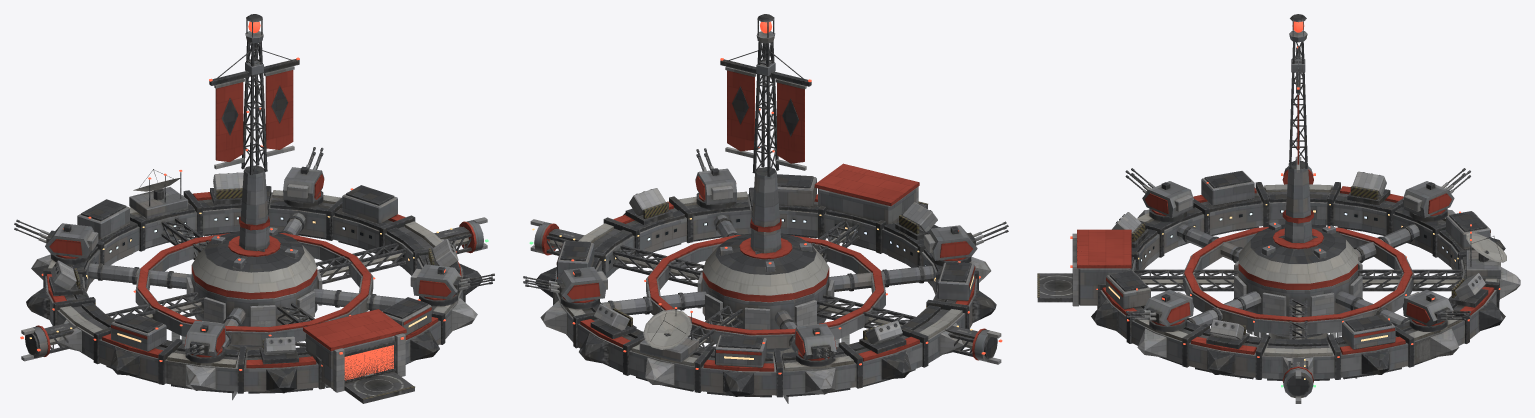
File: claim_garrison.glb
3 renders of one model, left to right at view 1: azimuth 30°, elevation 25°; view 2: azimuth 150°, elevation 25°; view 3: azimuth 270°, elevation 25°, orthographic. The views are drawn at different scales.
Visible parts, largest first — view 1: garrison_hull, flak_turret_4, flak_turret_2, flak_turret_1, flak_turret_3, garrison_hangar_glow, garrison_lights; view 2: garrison_hull, flak_turret_1, flak_turret_3, flak_turret_4, flak_turret_2, garrison_lights; view 3: garrison_hull, flak_turret_2, flak_turret_3, flak_turret_1, flak_turret_4, garrison_lights.
Boxes of the visible parts, x1,y1,x2,y2 form: garrison_hull: (21, 14, 487, 403); flak_turret_4: (410, 264, 494, 306); flak_turret_2: (14, 219, 98, 264); flak_turret_1: (283, 147, 324, 207); flak_turret_3: (184, 320, 225, 363); garrison_hangar_glow: (344, 345, 393, 380); garrison_lights: (20, 57, 488, 370); garrison_hull: (530, 14, 1001, 403); flak_turret_1: (523, 267, 607, 309); flak_turret_3: (924, 221, 1008, 266); flak_turret_4: (695, 148, 736, 209); flak_turret_2: (795, 323, 836, 366); garrison_lights: (529, 58, 1002, 374); garrison_hull: (1037, 14, 1520, 403); flak_turret_2: (1402, 168, 1470, 221); flak_turret_3: (1125, 168, 1193, 221); flak_turret_1: (1402, 289, 1470, 331); flak_turret_4: (1125, 289, 1193, 331); garrison_lights: (1070, 46, 1500, 387).
Size of the model in its own units: 89.4 by 67.3 by 83.5.
9 materials, 2 textured.
